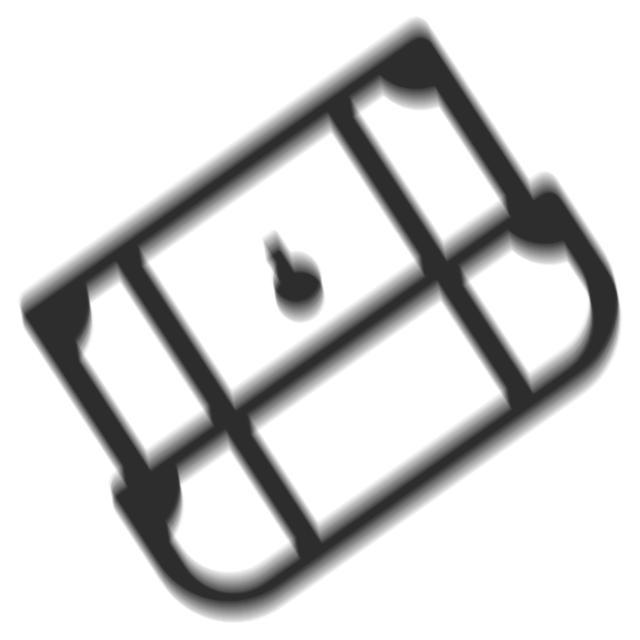treasure_box: (8, 8, 632, 636)
